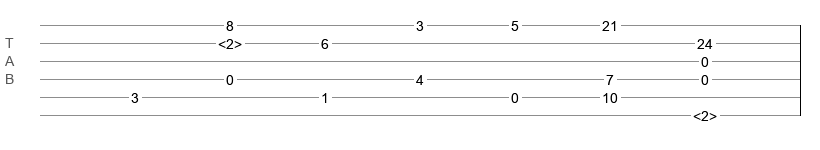0: (226, 72, 234, 82), (511, 90, 519, 100), (701, 54, 709, 64), (701, 72, 709, 82)
1: (321, 90, 329, 100)
10: (602, 90, 618, 100)
21: (602, 18, 618, 28)
24: (697, 36, 713, 46)
3: (131, 90, 139, 100), (416, 18, 424, 28)
4: (416, 72, 424, 82)
5: (511, 18, 519, 28)
6: (321, 36, 329, 46)
7: (606, 72, 614, 82)
8: (226, 18, 234, 28)
harmonic: (218, 36, 242, 46), (693, 108, 717, 118)
